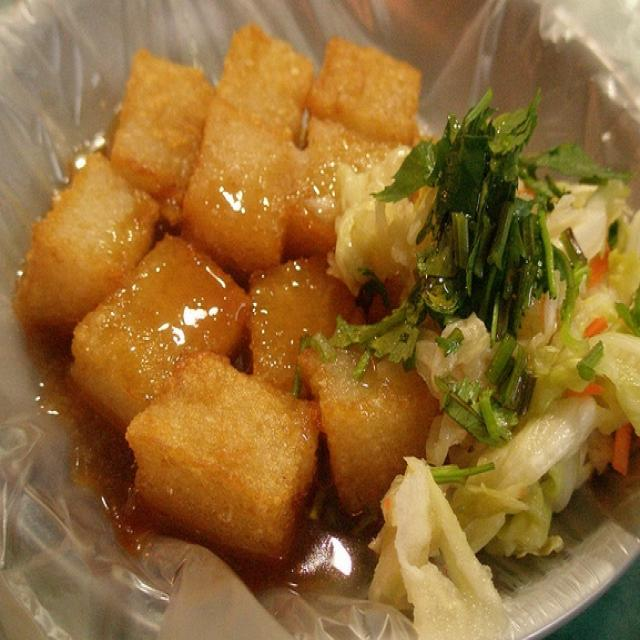蛋糕甜品: (55, 13, 507, 568)
